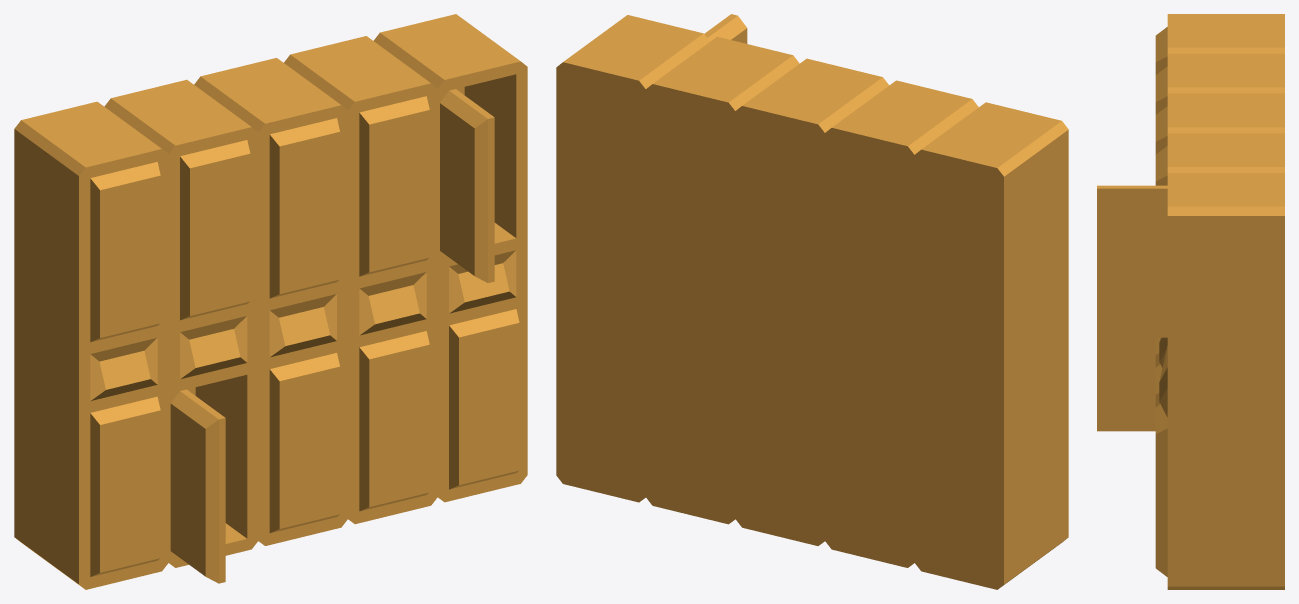
The model's file is scifi-lockers.fbx.
3 renders of one model, left to right at view 1: azimuth 30°, elevation 25°; view 2: azimuth 150°, elevation 25°; view 3: azimuth 270°, elevation 25°, orthographic. The views are drawn at different scales.
Visible parts, largest first — view 1: scifi-lockers; view 2: scifi-lockers; view 3: scifi-lockers.
Boxes of the visible parts, left/top/right/bottom form: scifi-lockers: left=14, top=14, right=527, bottom=589; scifi-lockers: left=556, top=14, right=1068, bottom=589; scifi-lockers: left=1097, top=14, right=1284, bottom=589.
Bounding box in the file's own units: 2 × 1.8 × 0.8.
